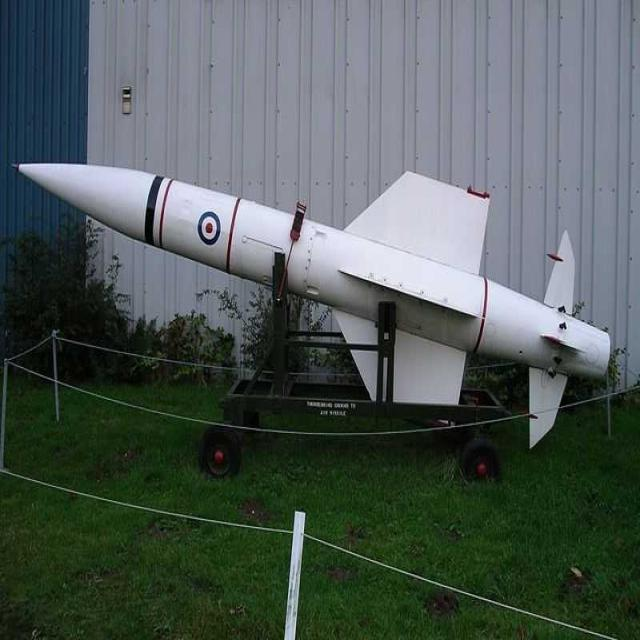missile: (10, 145, 610, 451)
